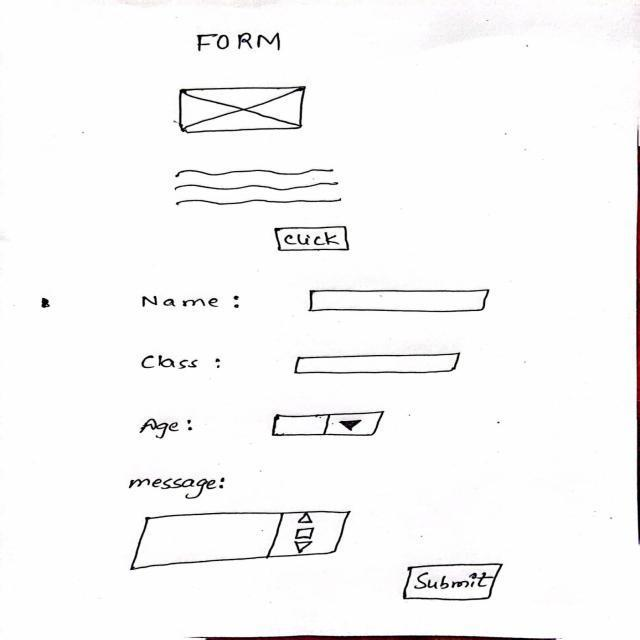textarea: (127, 504, 358, 574)
textbox: (289, 347, 474, 386), (301, 280, 498, 316)
